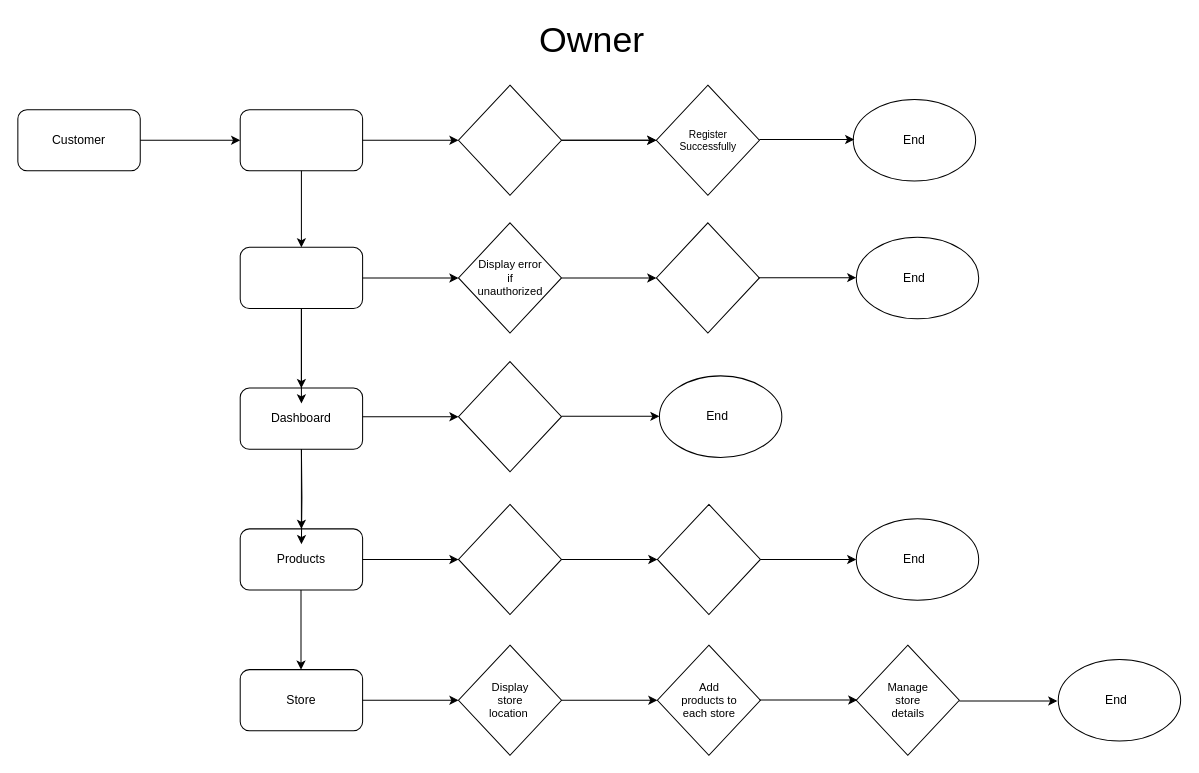
Some shapes in this 1199 by 773 pixel diagram are drawn without their labels. Each missing label, with the centre of its shape:
Add Products: the point at 509,559
Display system summary: the point at 509,416
Login: the point at 301,277
Manage Product details: the point at 708,559
Proceed to dashboard: the point at 707,277
Record owner information: the point at 509,139
Register: the point at 301,140
